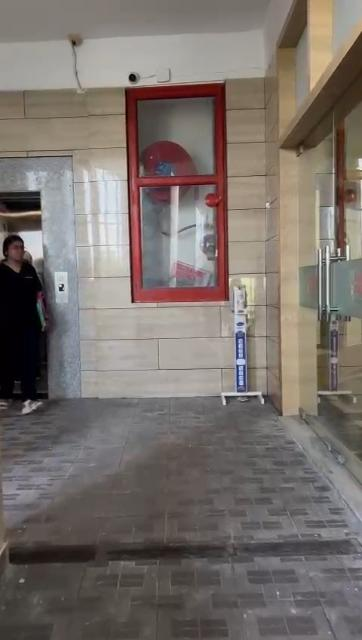door: (296, 145, 362, 429)
moving-obj: (10, 222, 84, 410)
wall: (76, 162, 132, 394), (228, 85, 284, 278), (131, 299, 215, 396), (0, 94, 116, 154)
